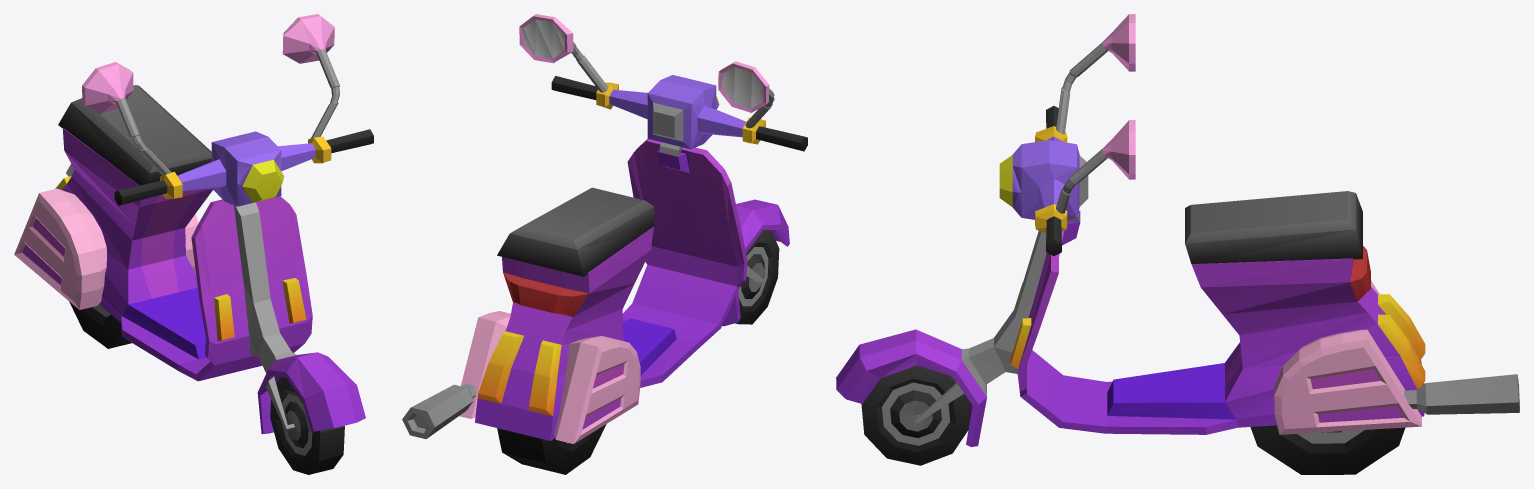
The model's file is pp_scooter.fbx.
The picture shows the model from 3 angles, left to right: view 1: azimuth 30°, elevation 25°; view 2: azimuth 150°, elevation 25°; view 3: azimuth 270°, elevation 25°; orthographic projection. The views are drawn at different scales.
Parts seen in each view (by area): view 1: pp_scooter_LOD0; view 2: pp_scooter_LOD0; view 3: pp_scooter_LOD0.
Part boxes in pixels (box(x1,y1,x2,y2)): pp_scooter_LOD0: box(14, 14, 373, 474); pp_scooter_LOD0: box(402, 14, 807, 474); pp_scooter_LOD0: box(836, 14, 1519, 474).
Size of what is drawn, in the model's own units: 0.8433 by 1.15 by 1.82.
1 material, 1 textured.
